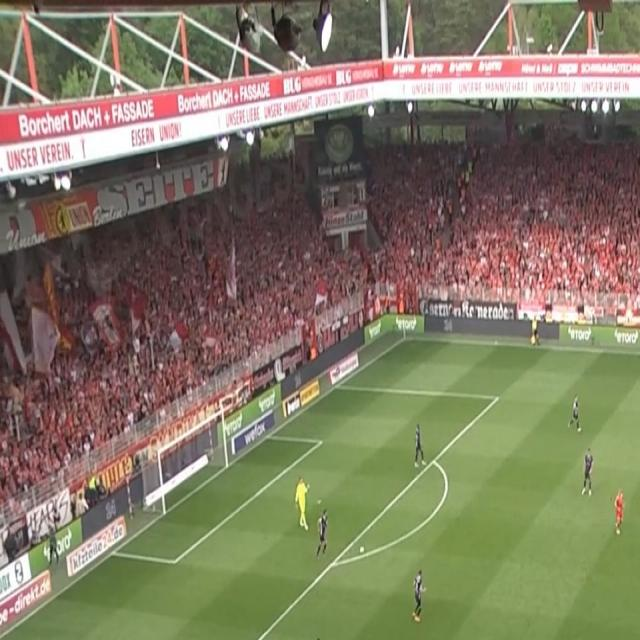ball: (359, 544, 365, 554)
